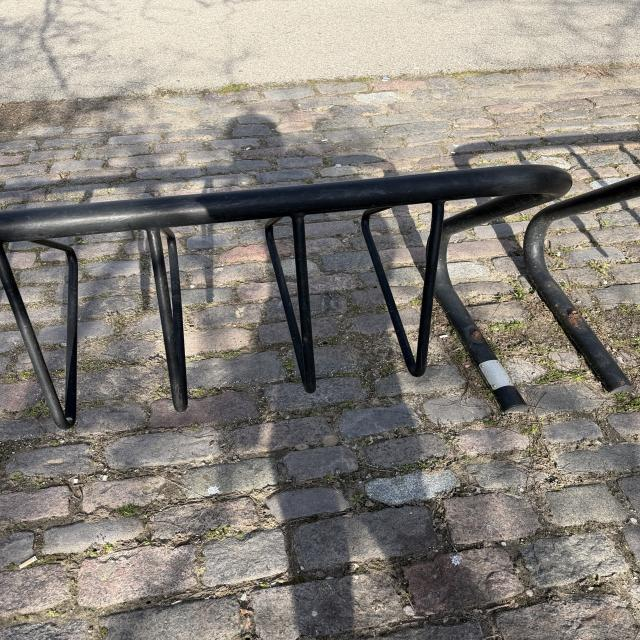Bicycle Rack: (5, 163, 568, 415), (531, 173, 640, 394)
